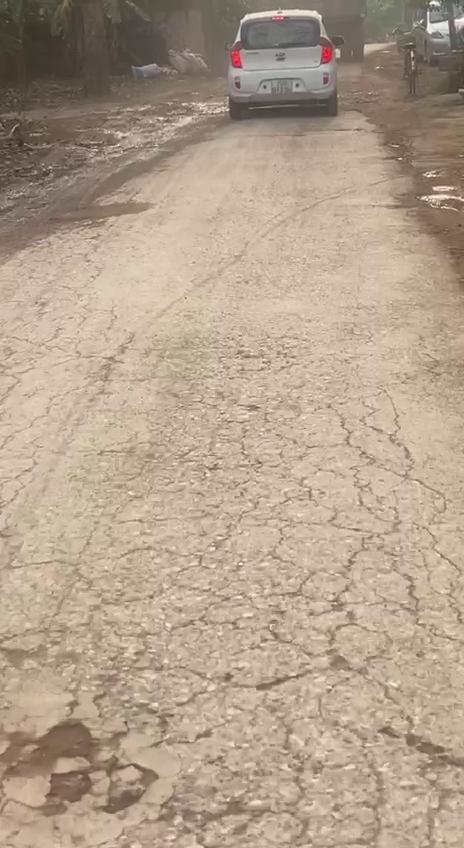pothole: (0, 712, 150, 820)
